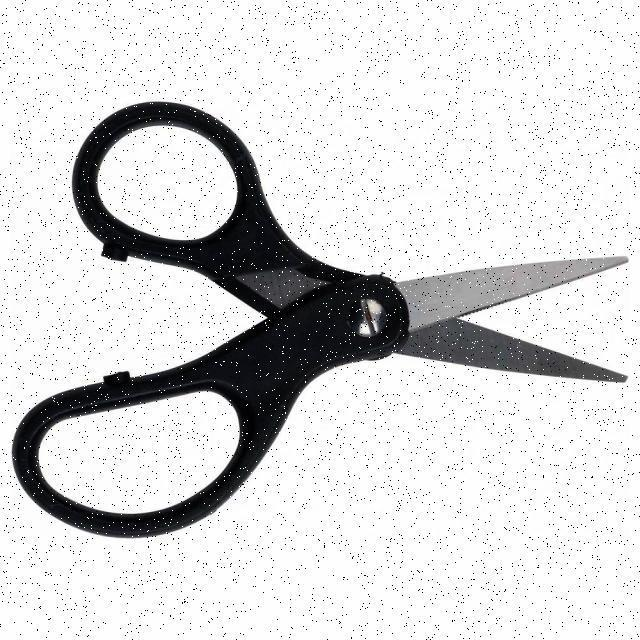scissors: (7, 90, 630, 540)
